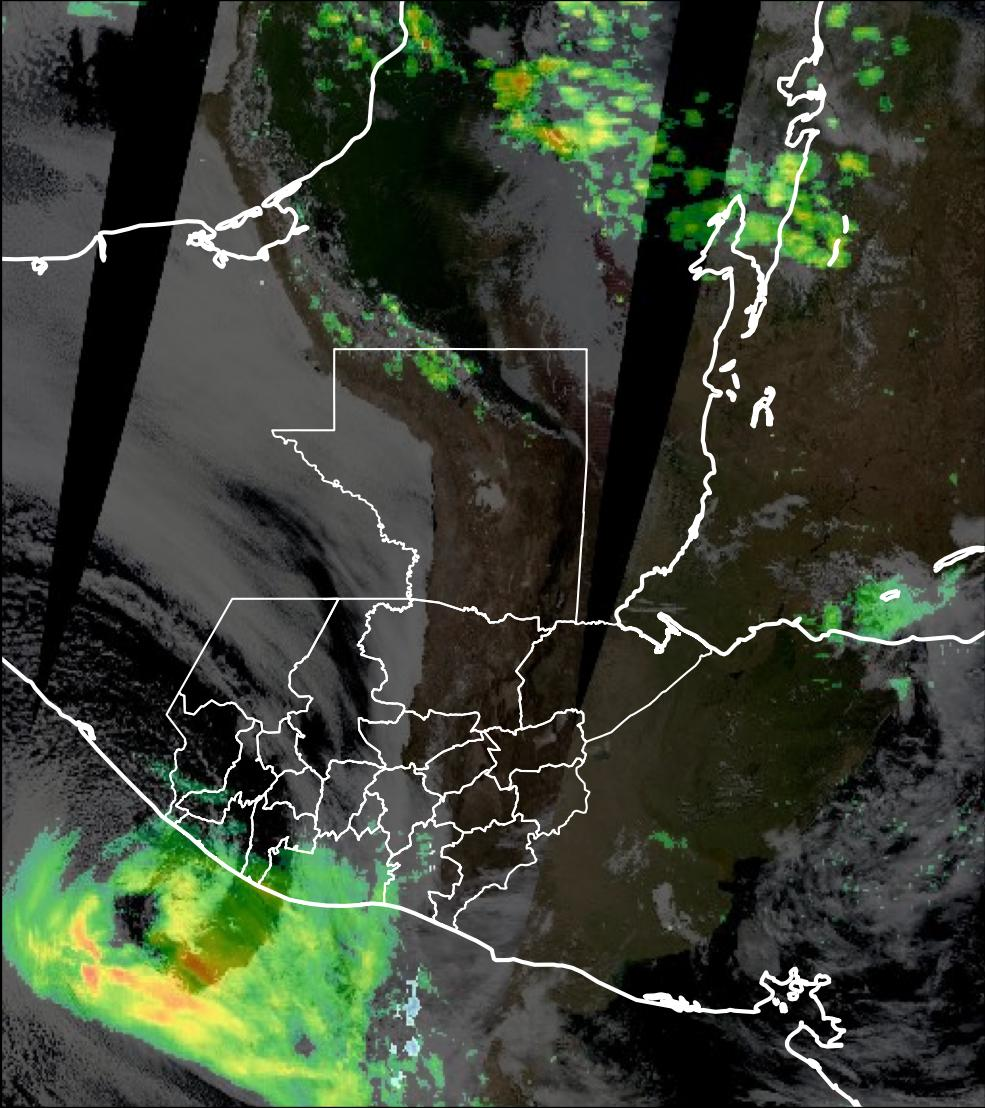precipitacion: (57, 880, 224, 1036)
